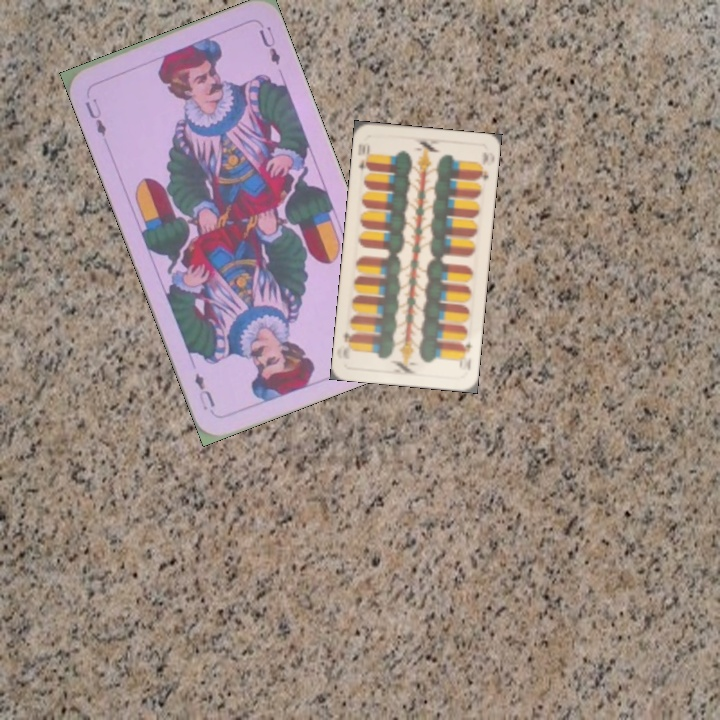E10: (354, 140, 373, 173), (457, 337, 474, 363)
EU: (81, 94, 110, 145)
